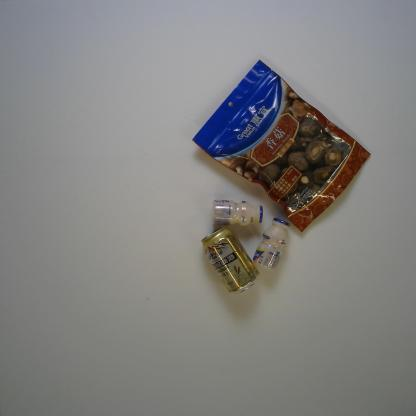Alcohol: (200, 225, 261, 295)
Dried Food: (191, 58, 372, 234)
Milk: (252, 217, 290, 272), (211, 199, 263, 227)
